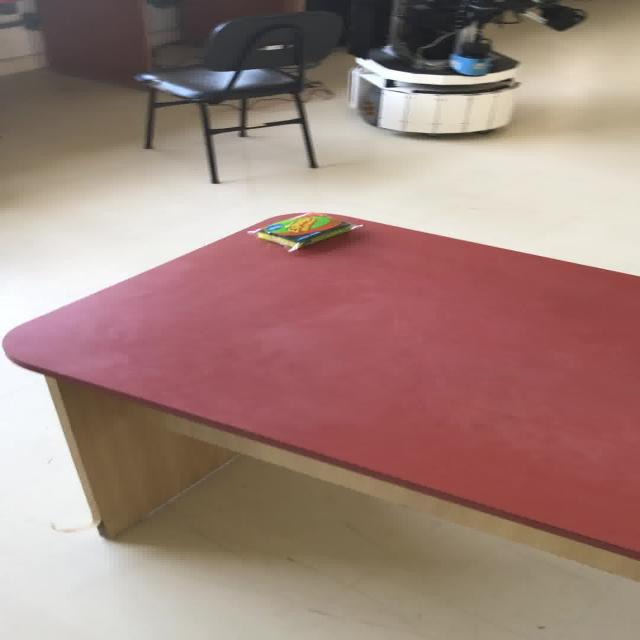sponge: (251, 211, 363, 252)
